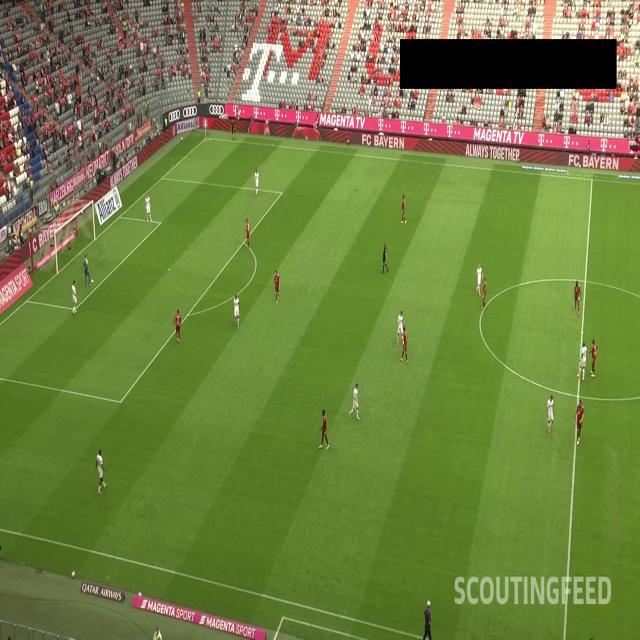ball: (90, 277, 95, 285)
player: (95, 444, 108, 497), (316, 406, 331, 451), (347, 380, 363, 422), (573, 397, 585, 446), (395, 306, 406, 349), (399, 324, 410, 367), (578, 338, 588, 382), (588, 334, 598, 378), (272, 266, 282, 306), (546, 394, 555, 436), (173, 307, 183, 343), (143, 192, 154, 224), (232, 291, 241, 330), (474, 262, 484, 296), (572, 278, 581, 315), (71, 277, 79, 315), (480, 274, 488, 312), (83, 251, 91, 288), (244, 214, 252, 251), (400, 191, 408, 226), (254, 167, 260, 197)
referee: (381, 241, 389, 275), (230, 114, 238, 144)
